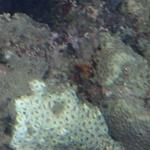dead: (6, 1, 143, 147)
